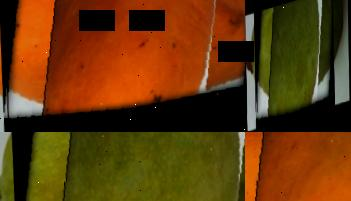Ripe: (0, 0, 245, 132), (245, 132, 351, 201)
Unripe: (9, 132, 245, 201), (253, 0, 334, 129)
